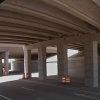Bridge: (5, 1, 96, 68)
